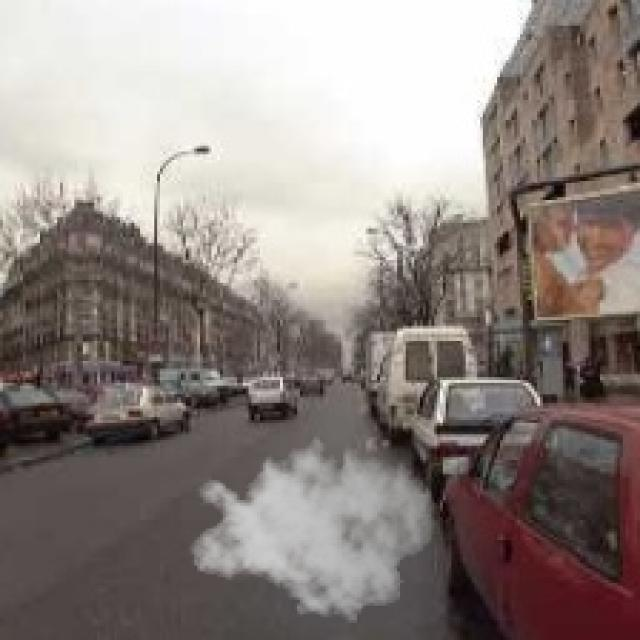Smoke: (188, 426, 438, 628)
